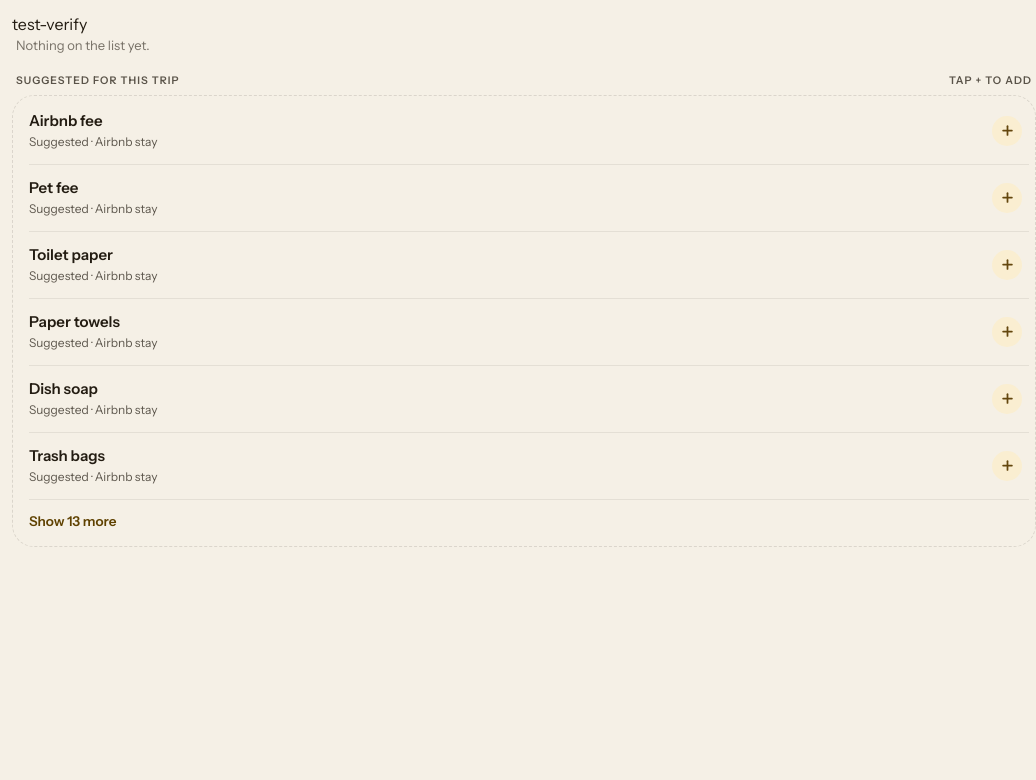
it: Suggested card wiring › shows the success notice as a floating bar above the bottom bar, not inline above the card
What coordinates should you click on to do the following:
click the button named "Add 'Toilet paper' to the list"
I would click on:
 (1007, 264)
Its box is [985,242,1029,286].
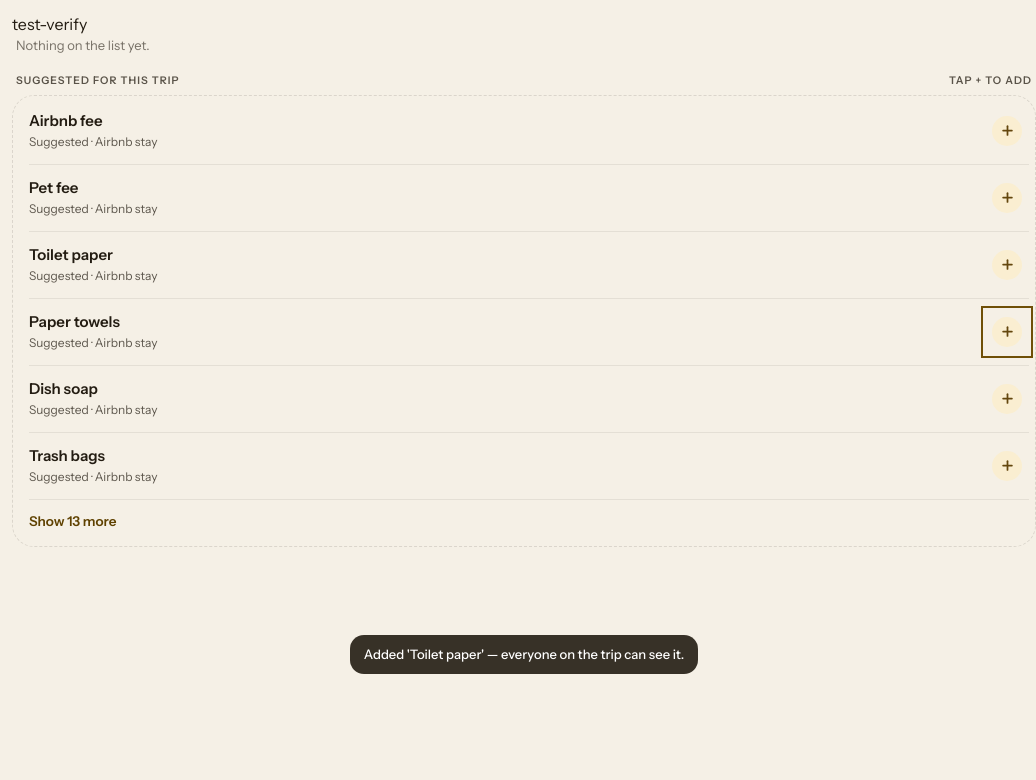
Expected: the text "everyone on the trip can see it" is not shown
Result: the element with class "bottom-" reads "Added 'Toilet paper' — everyone on the trip can see it." at [350,634,698,674]
